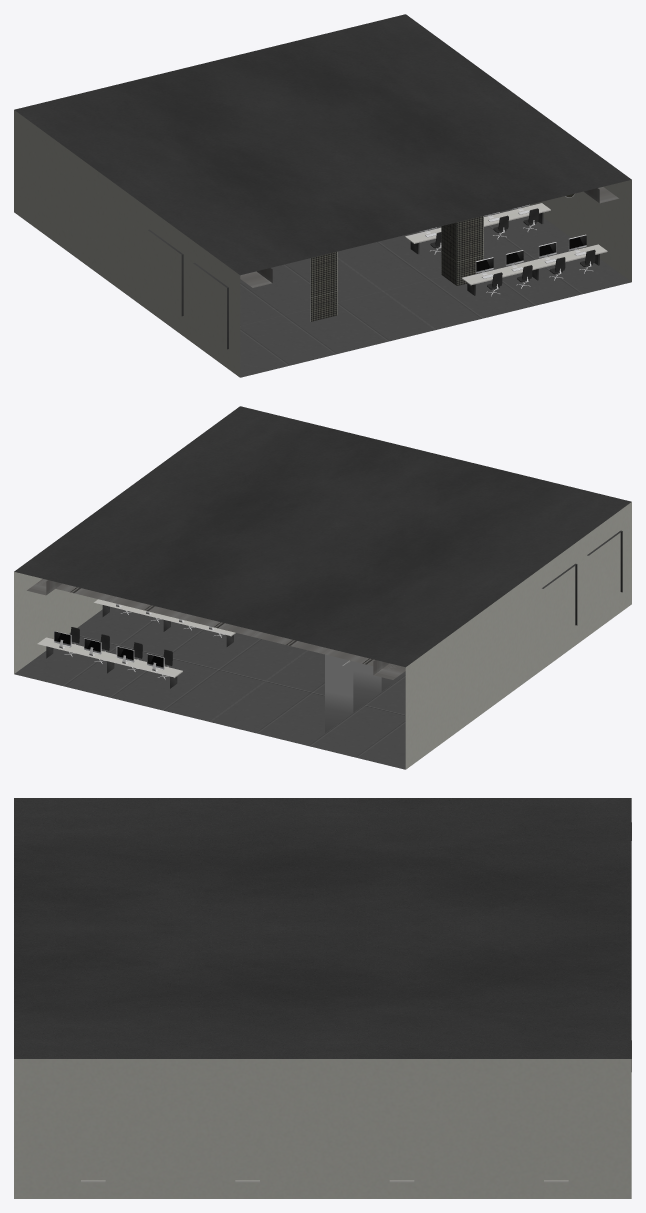
Rendered from cluster1.dae.
The picture shows the model from 3 angles, top to bottom: view 1: azimuth 30°, elevation 25°; view 2: azimuth 150°, elevation 25°; view 3: azimuth 270°, elevation 25°; orthographic projection. The views are drawn at different scales.
Visible parts, largest first — view 1: cluster0; view 2: cluster0; view 3: cluster0.
Part boxes in pixels (x1,y1,x2,y2): cluster0: (14,14,631,377); cluster0: (14,406,631,769); cluster0: (14,798,631,1198).
Bounding box in the file's own units: 20.11 × 20.01 × 5.
Materials: 1 (1 with a texture image).
